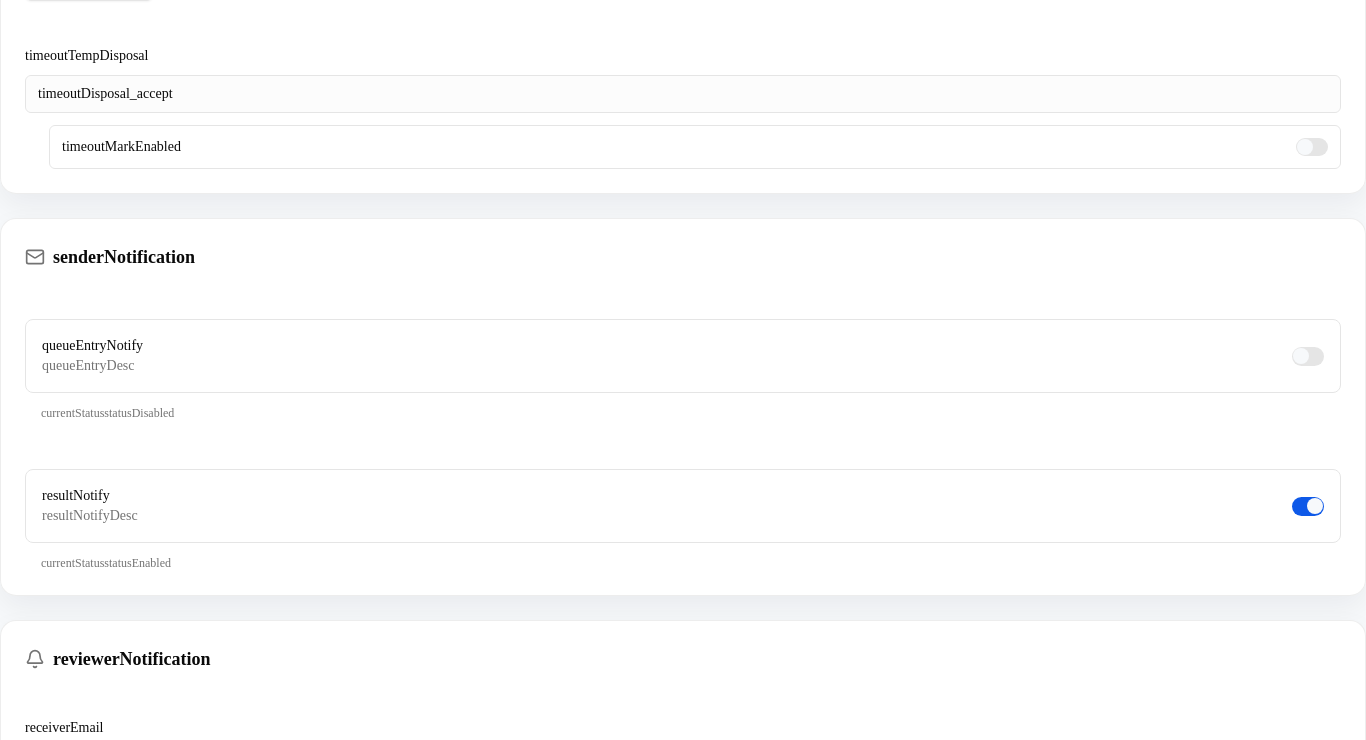
ReviewSettingsTab current-status copy linked to its switch (task-12) › sender queue-notify status text follows the switch state
(page scrolled)
Expected: the text with test id "disposal-settings-sender-queue-status" reads "currentStatusstatusDisabled", [41,406,174,420]
Click the switch with test id "disposal-settings-sender-queue". click: (1308, 356)
box: [1292,347,1324,366]
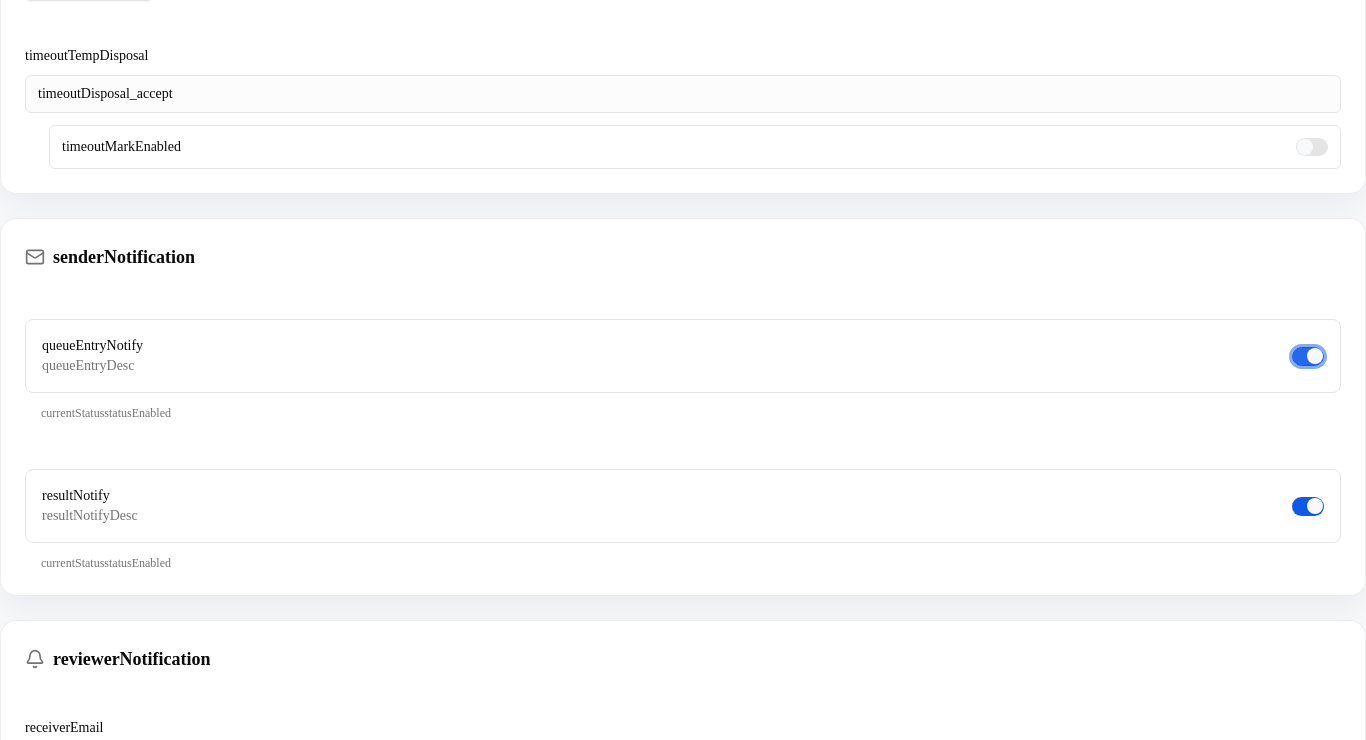
Now the text with test id "disposal-settings-sender-queue-status" reads "currentStatusstatusEnabled", box [41,406,171,420]
